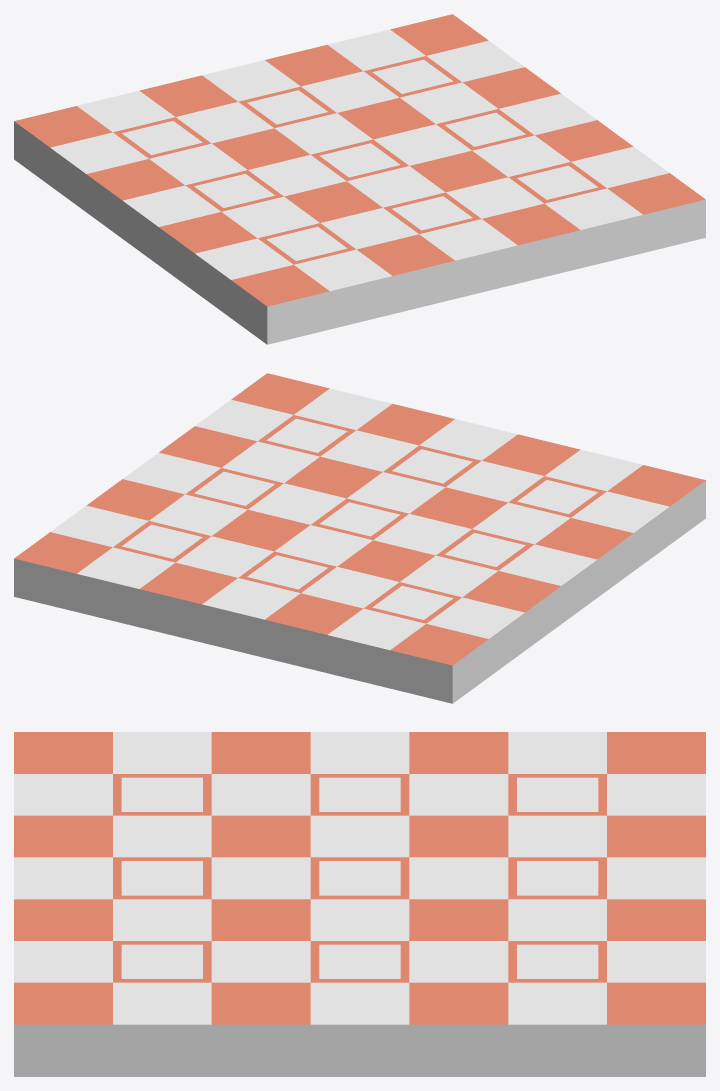
The model's file is checkeredtile1.glb.
The picture shows the model from 3 angles, top to bottom: view 1: azimuth 30°, elevation 25°; view 2: azimuth 150°, elevation 25°; view 3: azimuth 270°, elevation 25°; orthographic projection. The views are drawn at different scales.
Parts seen in each view (by area): view 1: citytileswhite; view 2: citytileswhite; view 3: citytileswhite.
Part boxes in pixels (bbox=[...]): citytileswhite: bbox=[14, 14, 705, 344]; citytileswhite: bbox=[14, 373, 705, 703]; citytileswhite: bbox=[14, 732, 705, 1076].
Bounding box in the file's own units: 12 × 1 × 12.
1 material, 1 textured.
